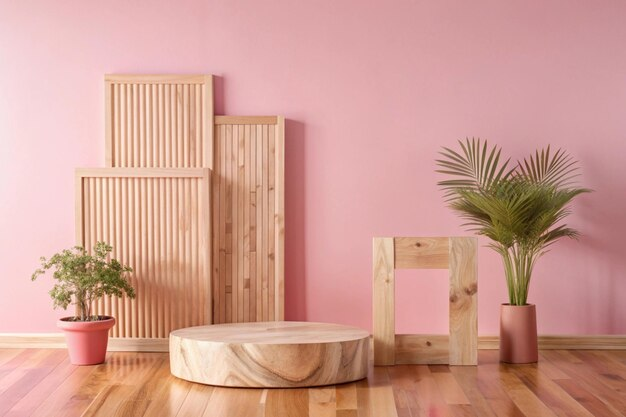not a gesture sign: (427, 131, 579, 417)
